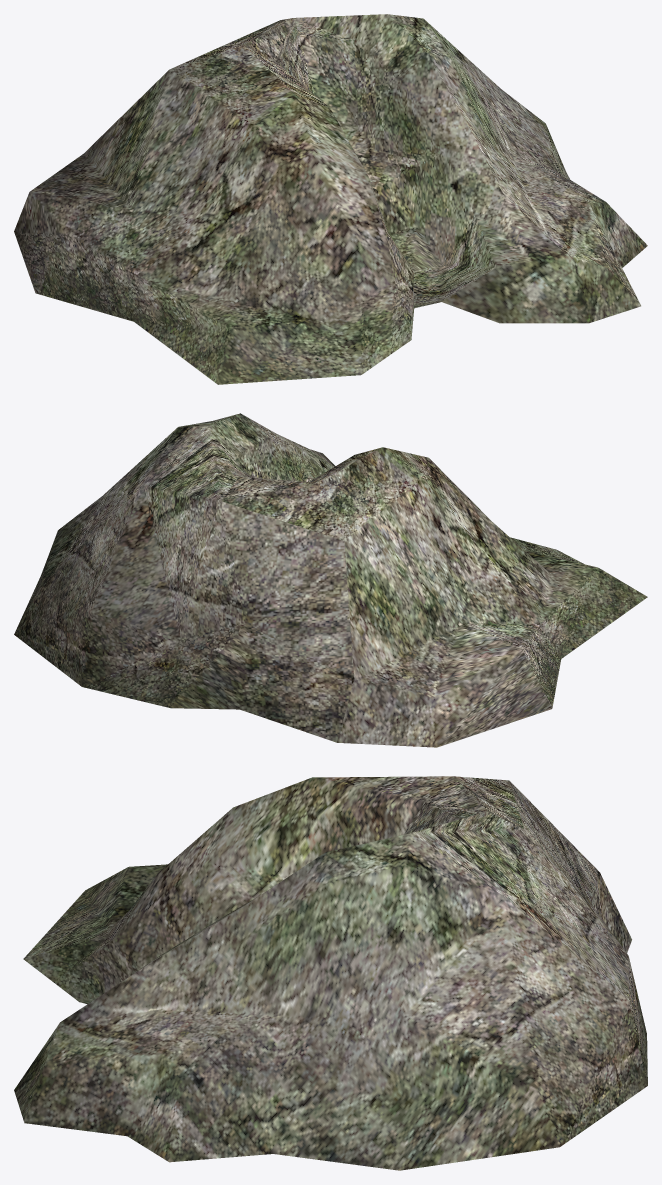
File: general_obj_stone13.fbx
The picture shows the model from 3 angles, top to bottom: view 1: azimuth 30°, elevation 25°; view 2: azimuth 150°, elevation 25°; view 3: azimuth 270°, elevation 25°; orthographic projection. The views are drawn at different scales.
Parts seen in each view (by area): view 1: Sphere01; view 2: Sphere01; view 3: Sphere01.
Boxes of the visible parts, <box> form: Sphere01: <box>14,14,647,384</box>; Sphere01: <box>14,413,647,747</box>; Sphere01: <box>14,776,647,1170</box>.
Size of the model in its own units: 7.83 by 2.81 by 6.86.
